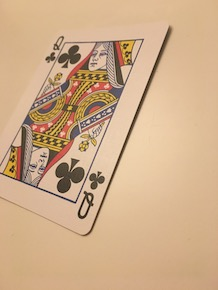QueenOfClubs: (1, 22, 176, 239)
